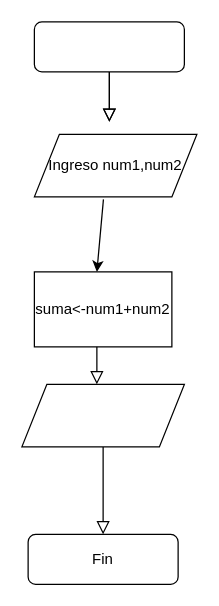
This 219x606 diagram has some shape labels left out. The centre of each missing label's shape, as x and y in pixels:
Imprimir suma: the point at 102,415
Inicio: the point at 108,46
